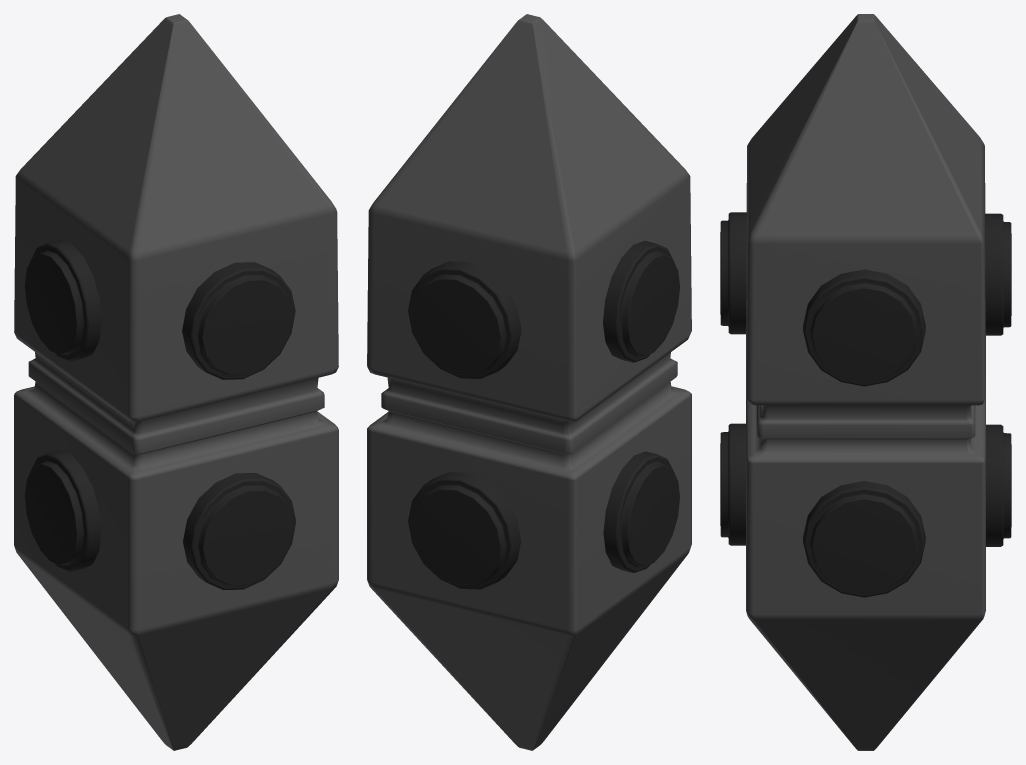
File: _objects_space_02.fbx
3 renders of one model, left to right at view 1: azimuth 30°, elevation 25°; view 2: azimuth 150°, elevation 25°; view 3: azimuth 270°, elevation 25°, orthographic.
Visible parts, largest first — view 1: Оbjects_space_02; view 2: Оbjects_space_02; view 3: Оbjects_space_02.
Part boxes in pixels (left/top/right/bottom): Оbjects_space_02: left=14, top=14, right=338, bottom=750; Оbjects_space_02: left=367, top=14, right=691, bottom=750; Оbjects_space_02: left=720, top=14, right=1011, bottom=750.
Size of the model in its own units: 54.13 by 150 by 54.13.
Materials: 1 (1 with a texture image).
